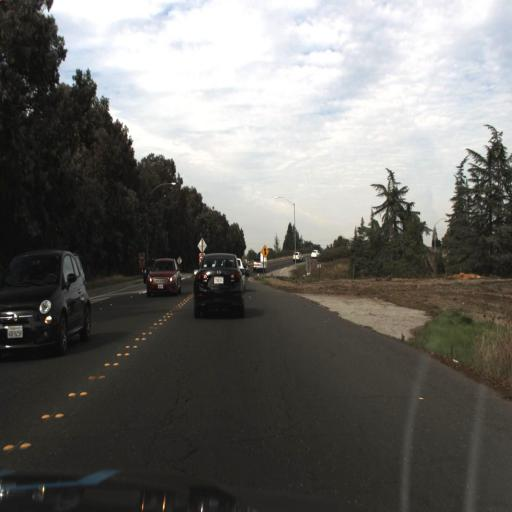car: (0, 247, 93, 361), (192, 249, 243, 318), (144, 256, 182, 300), (144, 253, 181, 297), (251, 248, 270, 273)
